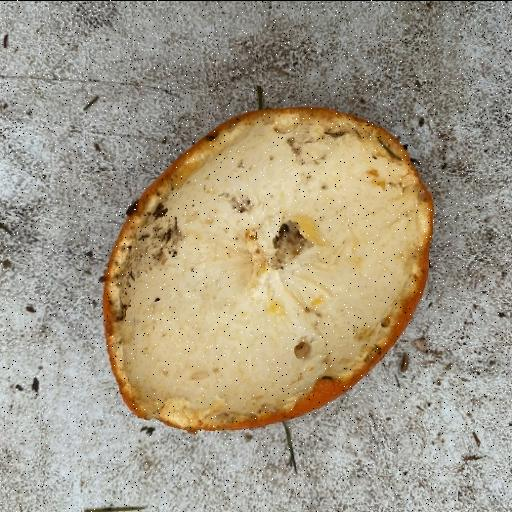Waste: (100, 104, 434, 432)
